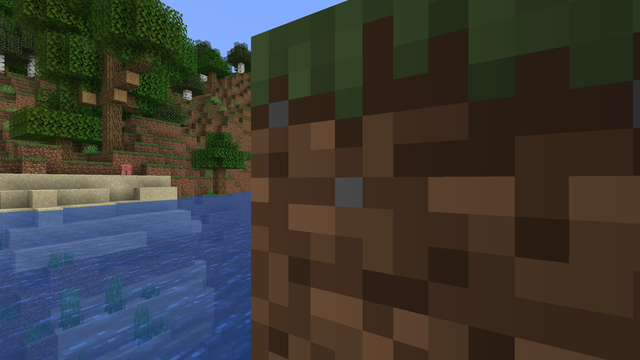cochons: (121, 164, 136, 172)
